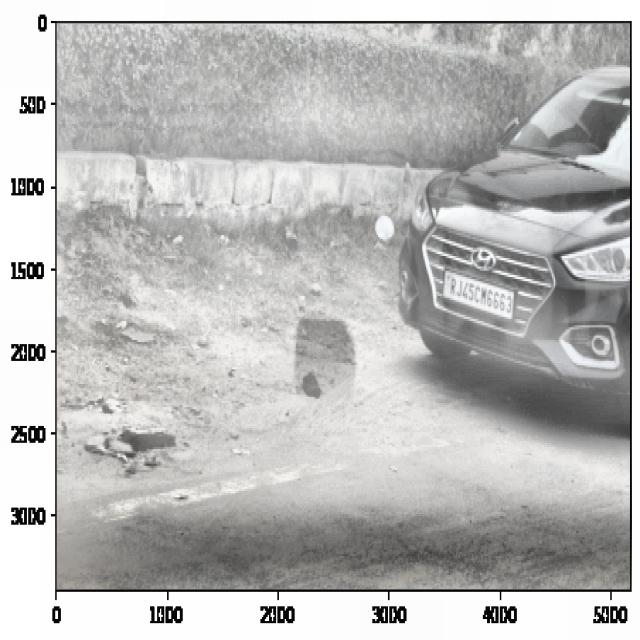license_plate: (447, 274, 512, 316)
